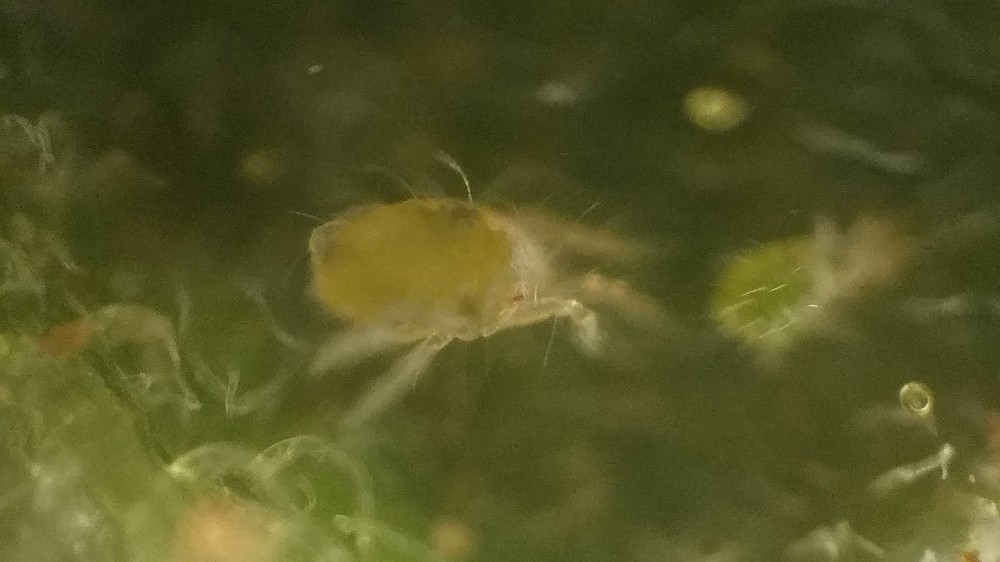Aracnido Rojo: (272, 133, 704, 440)
